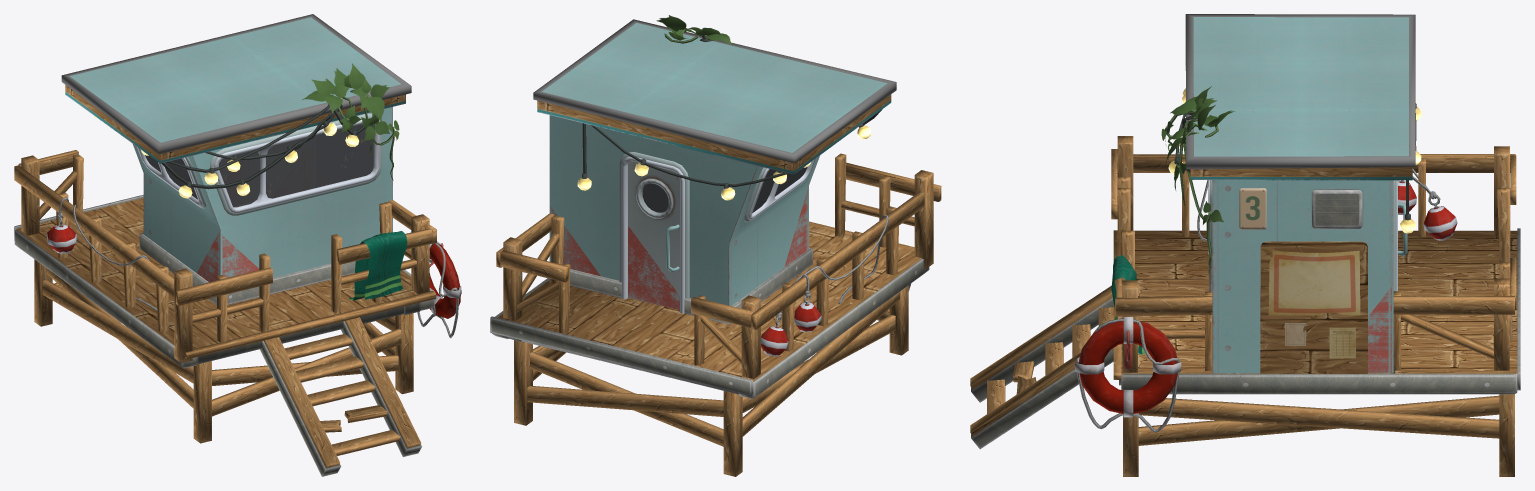
Rendered from lifeguard_tower.glb.
The picture shows the model from 3 angles, left to right: view 1: azimuth 30°, elevation 25°; view 2: azimuth 150°, elevation 25°; view 3: azimuth 270°, elevation 25°; orthographic projection. The views are drawn at different scales.
Parts seen in each view (by area): view 1: Object_2, Object_3; view 2: Object_3, Object_2; view 3: Object_3, Object_2.
Boxes of the visible parts, x1,y1,x2,y2 form: Object_2: [61, 14, 411, 300]; Object_3: [14, 150, 461, 476]; Object_3: [490, 153, 941, 476]; Object_2: [533, 15, 896, 313]; Object_3: [970, 136, 1520, 476]; Object_2: [1111, 14, 1421, 373].
Size of the model in its own units: 0.5248 by 0.555 by 0.7589.
Materials: 2 (2 with a texture image).
